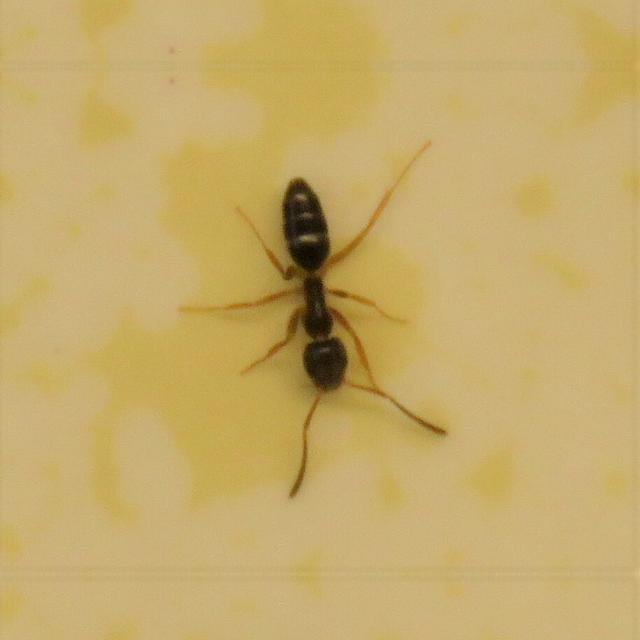Tapinoma: (206, 147, 436, 469)
